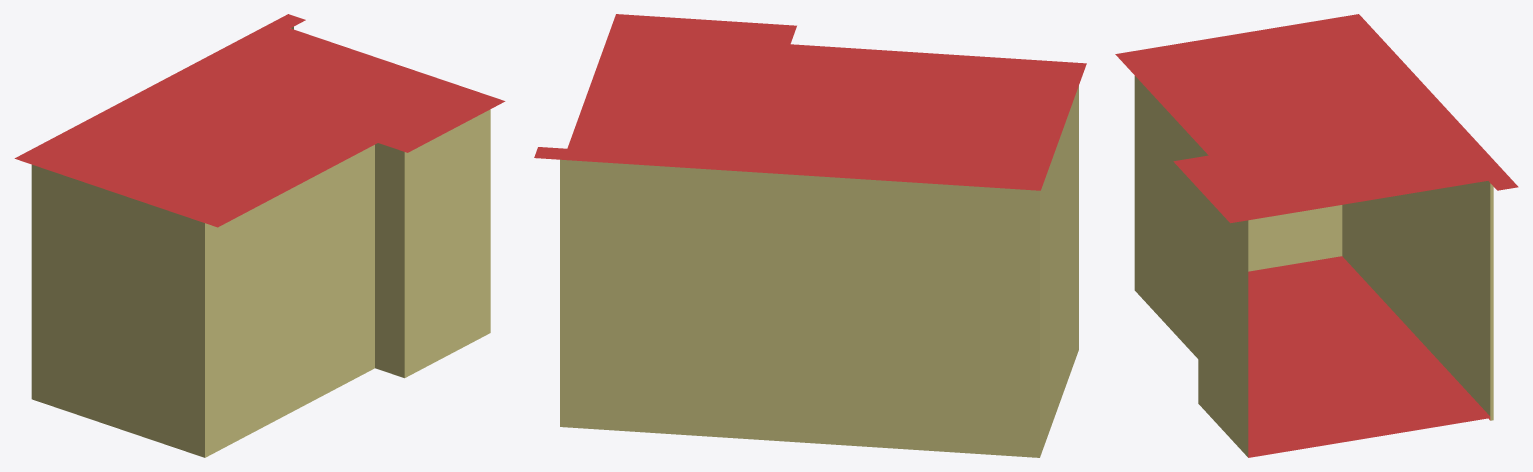
The picture shows the model from 3 angles, left to right: view 1: azimuth 30°, elevation 25°; view 2: azimuth 150°, elevation 25°; view 3: azimuth 270°, elevation 25°; orthographic projection. The views are drawn at different scales.
Bounding box in the file's own units: 12.74 × 10.39 × 6.75.
